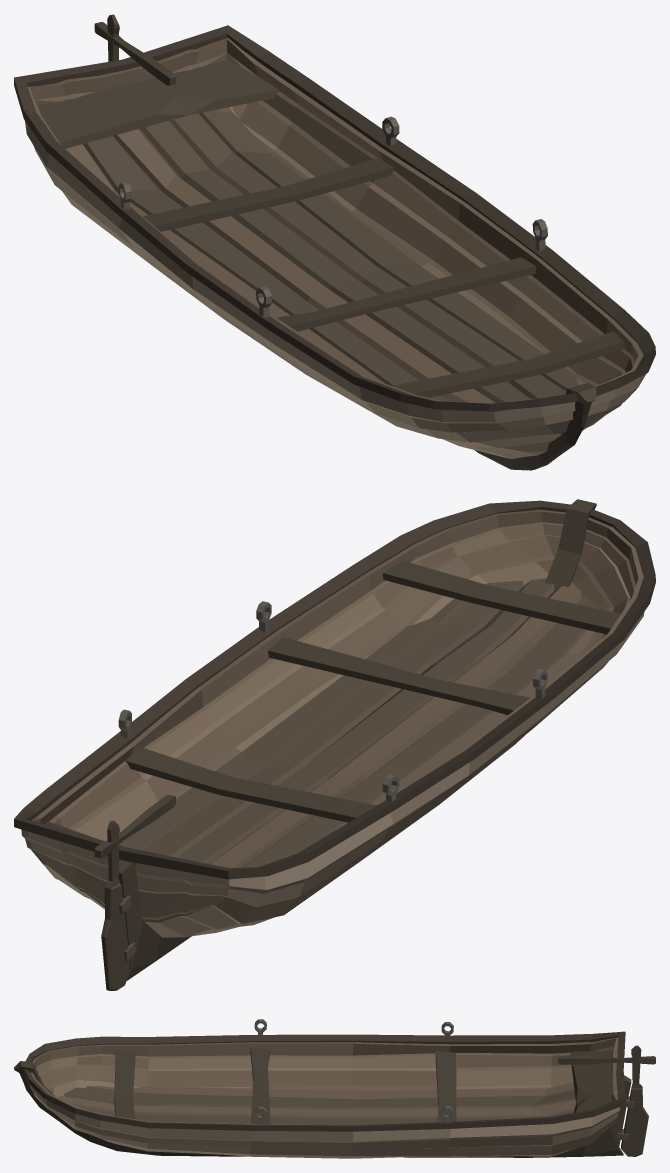
File: SM_Veh_Boat_Small_01_Hull.glb
3 renders of one model, top to bottom at view 1: azimuth 30°, elevation 25°; view 2: azimuth 150°, elevation 25°; view 3: azimuth 270°, elevation 25°, orthographic. The views are drawn at different scales.
Visible parts, largest first — view 1: SM_Veh_Boat_Small_01_Hull; view 2: SM_Veh_Boat_Small_01_Hull; view 3: SM_Veh_Boat_Small_01_Hull.
Boxes of the visible parts, x1,y1,x2,y2 form: SM_Veh_Boat_Small_01_Hull: [14, 14, 655, 470]; SM_Veh_Boat_Small_01_Hull: [14, 499, 655, 990]; SM_Veh_Boat_Small_01_Hull: [14, 1019, 655, 1158].
Bounding box in the file's own units: 0.0288 × 0.0163 × 0.085.
